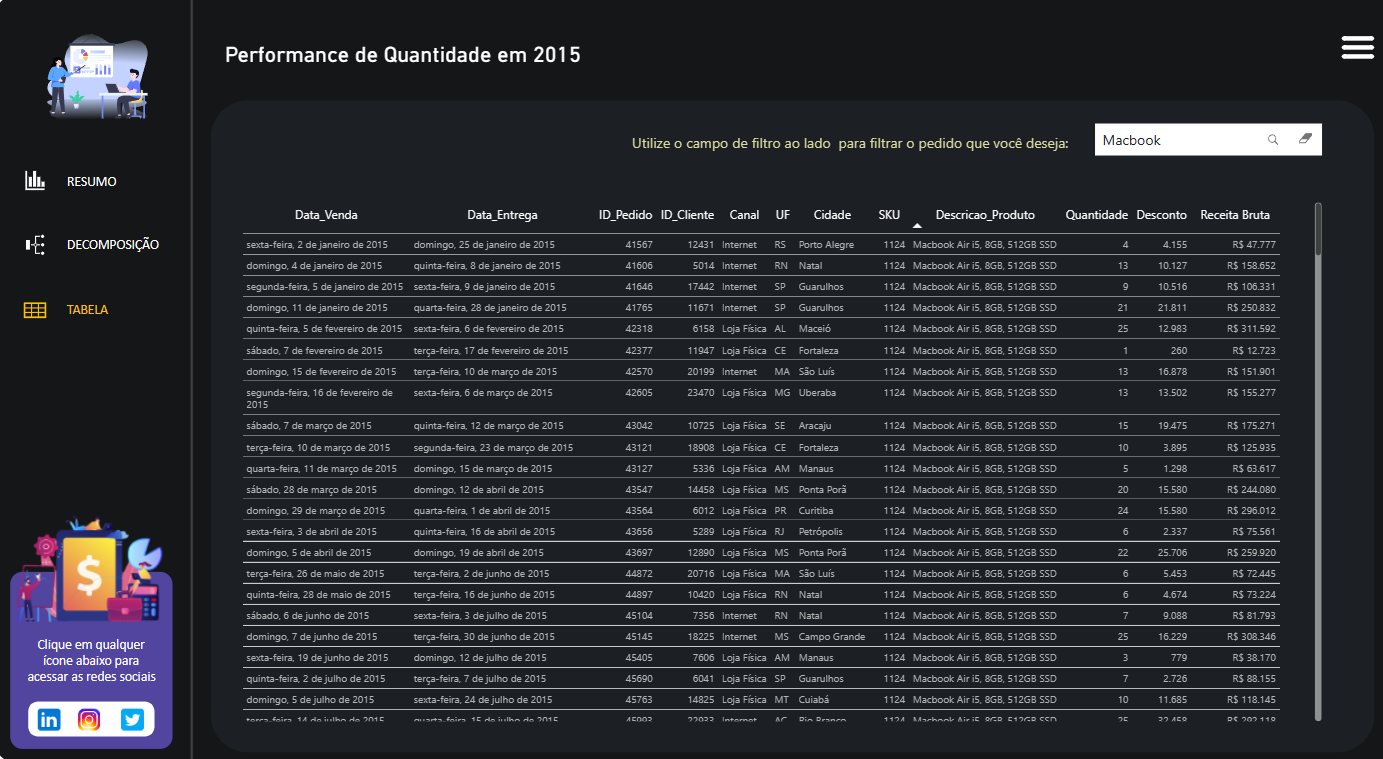

Layout of this report page (visuals, bound fields, positions):
{"tool":"powerbi","page":{"name":"Tabela","canvas":[1920,1080],"ordinal":3},"visuals":[{"type":"actionButton","box":[61.2,255.4,133,33.3],"z":0},{"type":"actionButton","box":[66.5,336.5,186.2,39.9],"z":1000},{"type":"actionButton","box":[82.5,974.9,34.6,33.3],"z":2000},{"type":"actionButton","box":[135.7,974.9,39.9,33.3],"z":3000},{"type":"actionButton","box":[194.2,974.9,39.9,33.3],"z":4000},{"type":"lottieCE54BF3CBD11486EAE5DEA48995B34A4","fields":{"measure":["medidas.Titulo Dinamico"]},"box":[52,39.9,227,196],"z":5000},{"type":"cardVisual","fields":{"Data":["medidas.Titulo Dinamico"]},"box":[319.2,69.2,784.7,70.5],"z":6000},{"type":"tableEx","fields":{"Values":["fato_vendas.Data_Venda","fato_vendas.Data_Entrega","Sum(fato_vendas.ID_Pedido)","dim_clientes.ID_Cliente","dim_canal.Descricao_Canal","dim_cidade.UF","dim_cidade.Cidade","dim_produto.ID_Produto","dim_produto.Descricao_Produto","medidas.Quantidade","medidas.Desconto","medidas.Receita Bruta"]},"box":[341.7,288.3,1468.3,720],"z":7000},{"type":"textFilter25A4896A83E0487089E2B90C9AE57C8A","fields":{"field":["dim_produto.Descricao_Produto"]},"box":[1476.7,183.3,333.3,71.7],"z":8000},{"type":"textbox","box":[876.7,210,600,45],"z":9000},{"type":"actionButton","title":"Btn_Filtro_Off","box":[1813.6,69.8,54.9,46.5],"z":10000}]}

Visuals, with their boxes on the page's 1920x1080 design canvas (x1, y1, x2, y2). These are canvas units, not pixel positions in the 1383x759 screenshot, which may show the page scaled, cropped or inside an application window:
actionButton: 61/255/194/289
actionButton: 66/336/253/376
actionButton: 82/975/117/1008
actionButton: 136/975/176/1008
actionButton: 194/975/234/1008
lottieCE54BF3CBD11486EAE5DEA48995B34A4 - medidas.Titulo Dinamico: 52/40/279/236
cardVisual - medidas.Titulo Dinamico: 319/69/1104/140
tableEx - fato_vendas.Data_Venda x fato_vendas.Data_Entrega: 342/288/1810/1008
textFilter25A4896A83E0487089E2B90C9AE57C8A - dim_produto.Descricao_Produto: 1477/183/1810/255
textbox: 877/210/1477/255
"Btn_Filtro_Off" actionButton: 1814/70/1868/116
